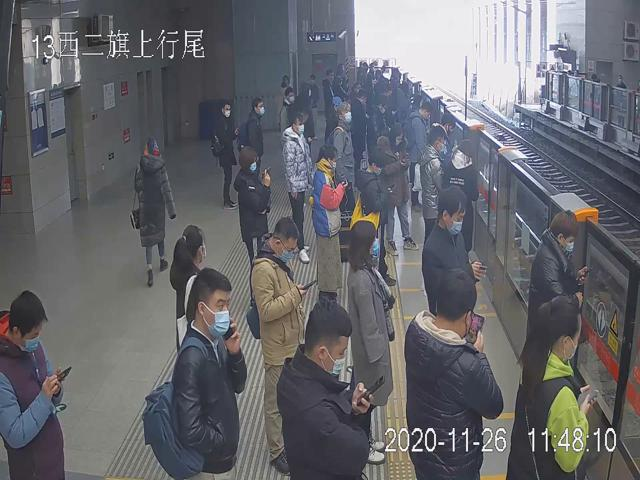person: (402, 268, 504, 480), (275, 298, 374, 480), (508, 294, 595, 480), (173, 267, 247, 480), (250, 217, 305, 475), (346, 219, 394, 465), (528, 207, 589, 363), (421, 184, 480, 323), (355, 147, 399, 287), (134, 138, 175, 287), (234, 146, 271, 308), (376, 124, 420, 259), (312, 143, 346, 303), (418, 124, 448, 296), (281, 112, 313, 263), (216, 101, 238, 210), (246, 97, 266, 179)
